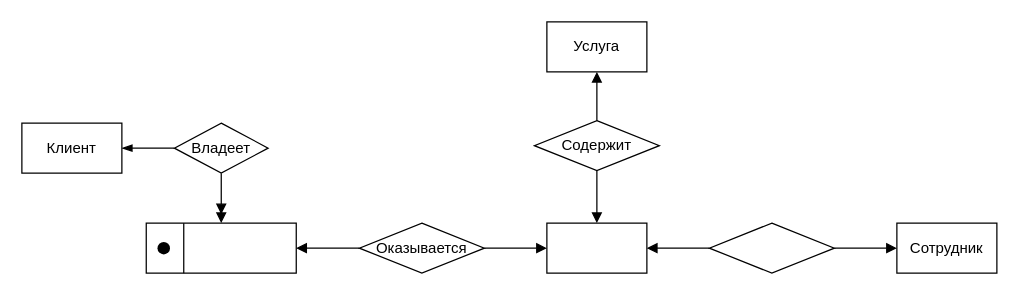
This 1019x296 diagram has some shape labels left out. Here are the shapes that lost their labels. From the top down, the box of each, then its label:
(145, 222, 296, 273): Автомобиль
(546, 222, 647, 273): Оказываемая услуга
(708, 222, 834, 273): Выполняется
